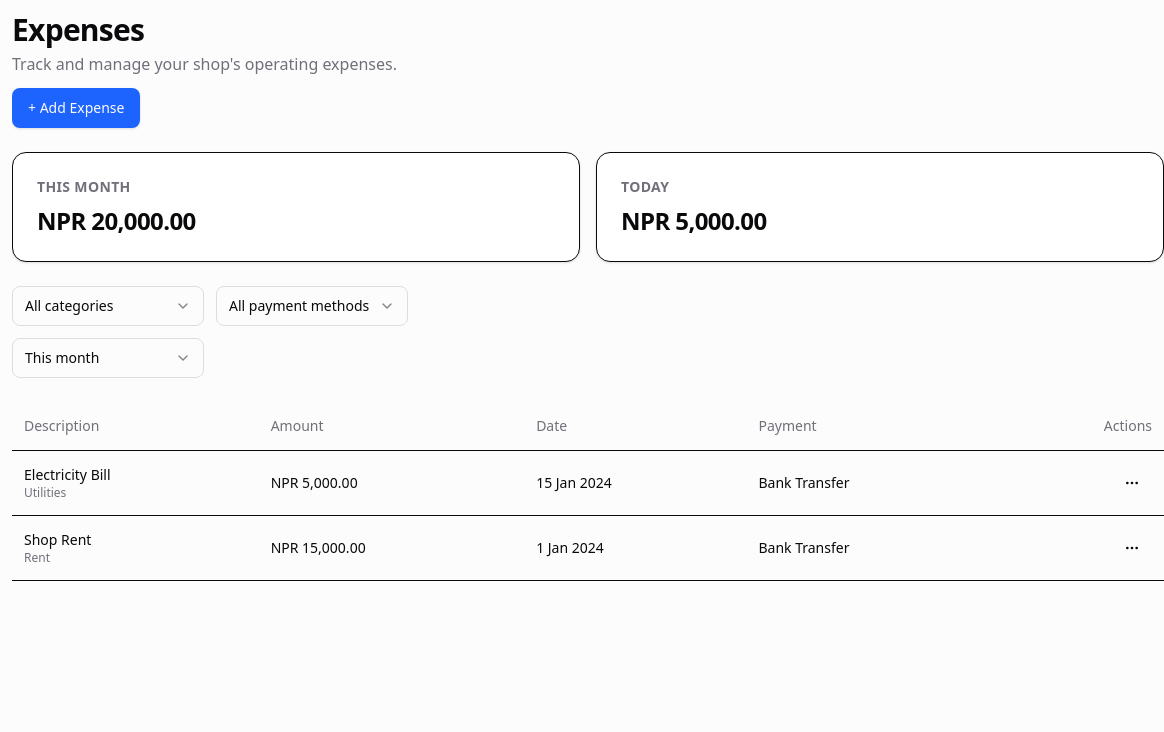
Scenario: ExpensesPage › No-results state shows when filters produce no matches
Expected: the text "Electricity Bill" is shown, [24,464,111,484]
Click the dropdown named "Category" at coordinates (108, 306), box [12,286,204,326]
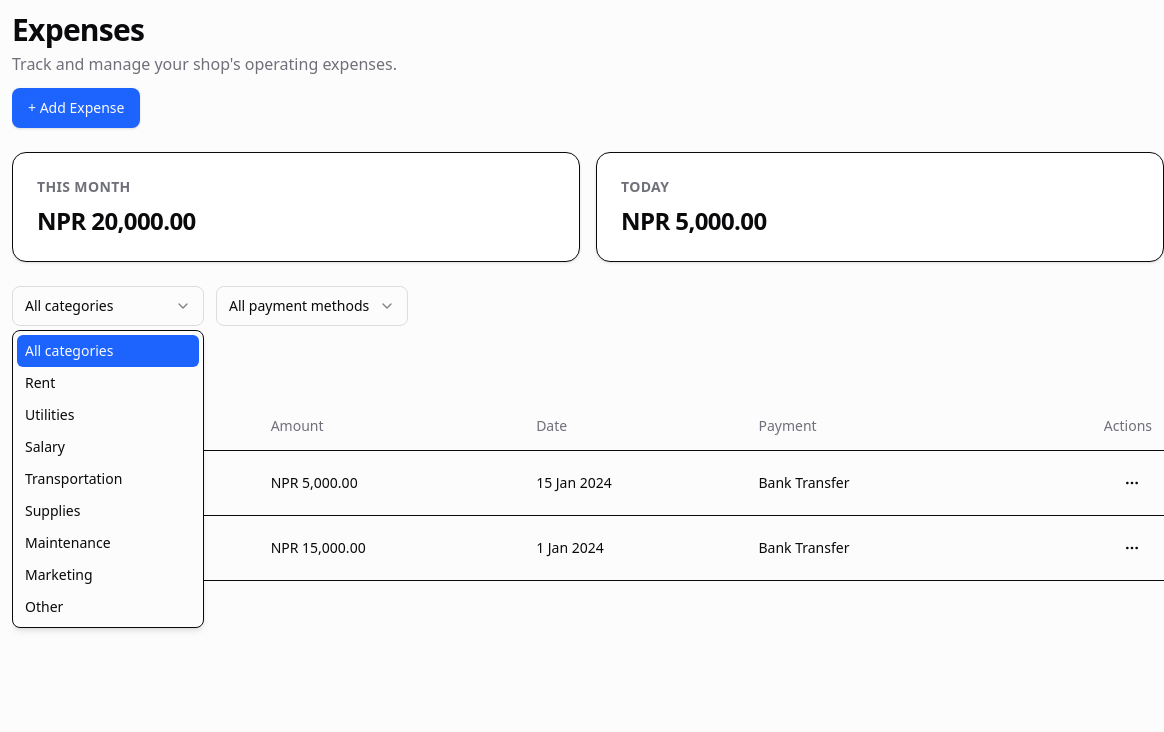
Click the option "Salary" at coordinates (108, 447), box [17,431,199,463]
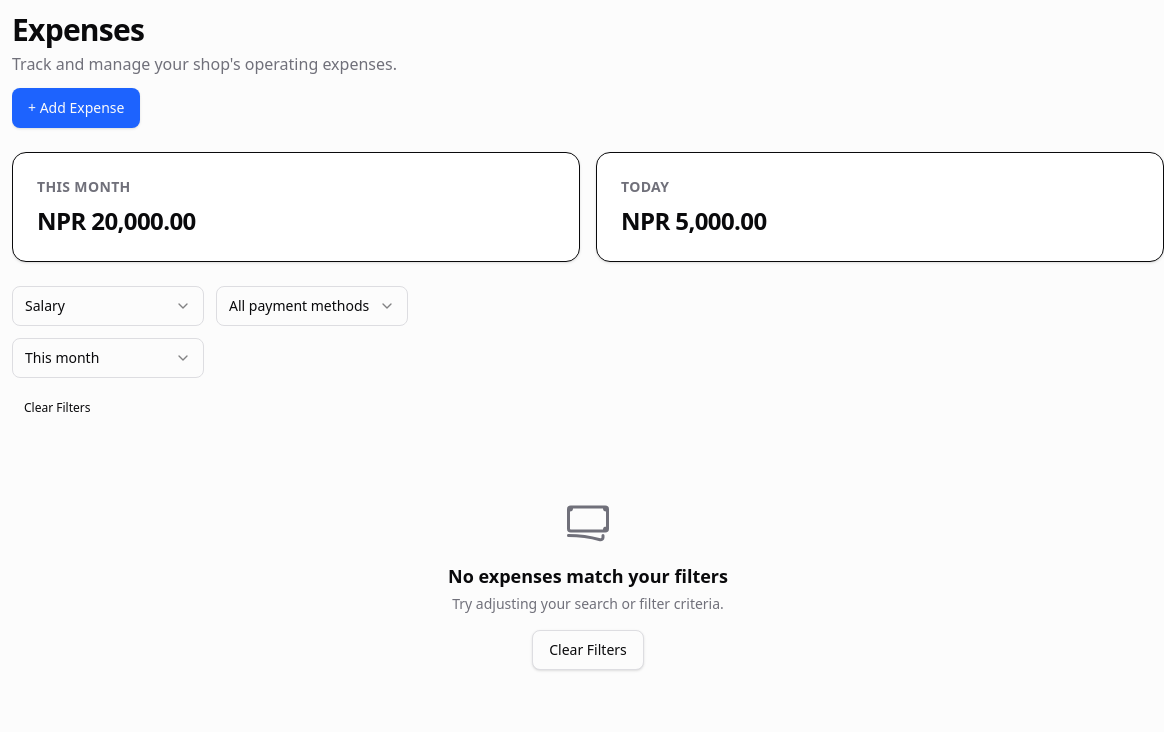
Expected: the heading "No expenses match your filters" is shown, [448,562,728,590]
